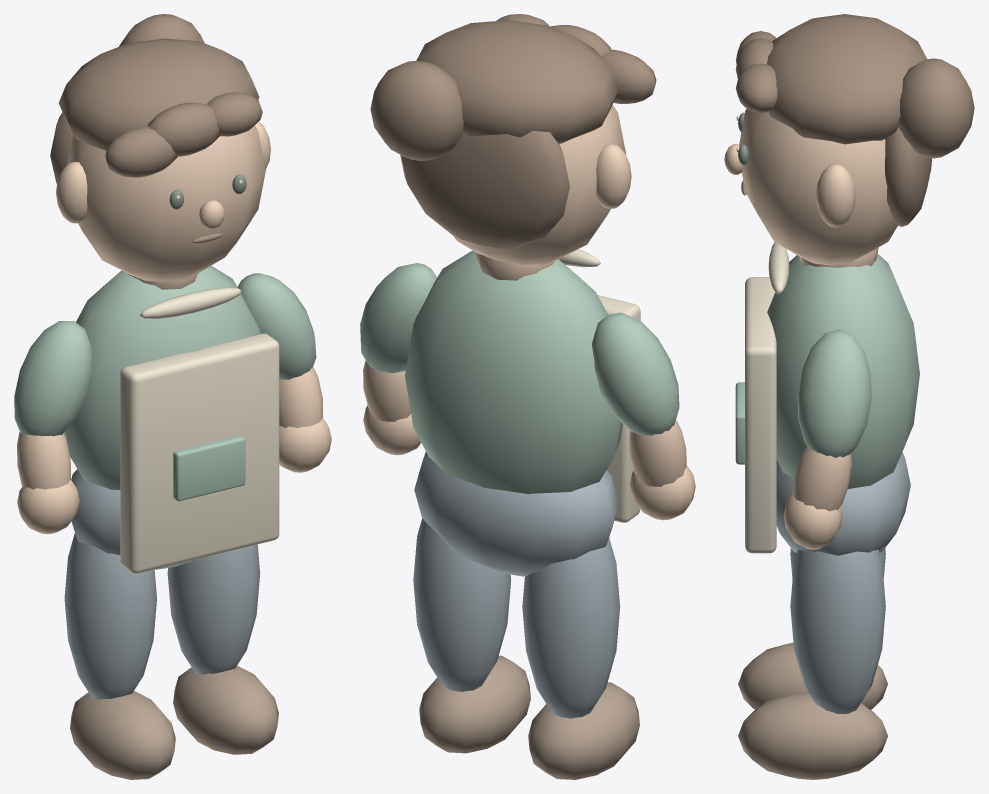
File: mommy-idle.glb
3 renders of one model, left to right at view 1: azimuth 30°, elevation 25°; view 2: azimuth 150°, elevation 25°; view 3: azimuth 270°, elevation 25°, orthographic. The views are drawn at different scales.
Parts seen in each view (by area): view 1: Apron, Head.006, Padded shirt.006, Hair crown.006, Trouser leg.012, Trouser leg.013, Rounded boot.013, Rounded boot.012, Shirt sleeve.012, Shirt sleeve.013, Apron pocket, Soft trouser seat.006 (+12 smaller); view 2: Padded shirt.006, Hair crown.006, Hair back.006, Soft trouser seat.006, Trouser leg.012, Trouser leg.013, Shirt sleeve.012, Hair bun, Rounded boot.012, Rounded boot.013, Head.006, Shirt sleeve.013 (+9 smaller); view 3: Padded shirt.006, Hair crown.006, Head.006, Trouser leg.013, Rounded boot.013, Apron, Shirt sleeve.013, Hair bun, Soft trouser seat.006, Rounded boot.012, Hair back.006, Forearm.013 (+7 smaller).
Part boxes in pixels (x1,y1,x2,y2): Apron: (120,333,279,573); Head.006: (67,125,265,281); Padded shirt.006: (64,265,260,489); Hair crown.006: (58,38,259,150); Trouser leg.012: (64,533,156,699); Trouser leg.013: (167,544,260,674); Rounded boot.013: (173,666,278,754); Rounded boot.012: (70,691,175,779); Shirt sleeve.012: (14,321,91,436); Shirt sleeve.013: (237,273,316,379); Apron pocket: (173,435,245,501); Soft trouser seat.006: (71,469,193,569); Padded shirt.006: (405,250,622,494); Hair crown.006: (416,20,619,143); Hair back.006: (400,131,569,248); Soft trouser seat.006: (414,452,619,576); Trouser leg.012: (522,537,619,718); Trouser leg.013: (413,518,511,691); Shirt sleeve.012: (591,312,679,435); Hair bun: (370,61,463,160); Rounded boot.012: (528,682,639,779); Rounded boot.013: (419,655,530,753); Head.006: (452,104,626,264); Shirt sleeve.013: (360,263,436,373); Padded shirt.006: (767,254,919,488); Hair crown.006: (767,14,926,144); Head.006: (739,108,898,265); Trouser leg.013: (790,549,885,713); Rounded boot.013: (738,692,887,779); Apron: (745,277,776,553); Shirt sleeve.013: (797,329,871,457); Hair bun: (898,58,974,158); Soft trouser seat.006: (776,452,910,555); Rounded boot.012: (738,642,887,709); Hair back.006: (885,127,931,226); Forearm.013: (792,446,851,511).
Bounding box in the file's own units: 0.806 × 1.74 × 0.55.
